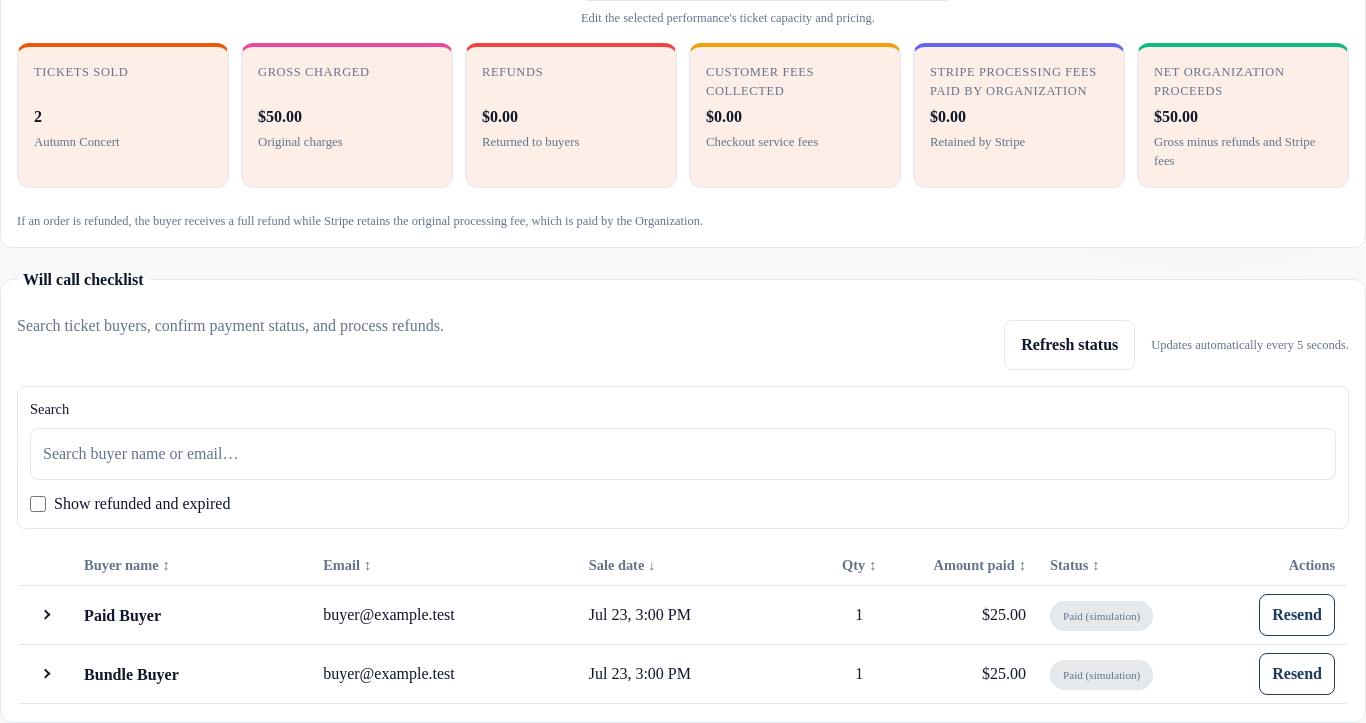
it: WillCallPanel refunded and expired orders › shows bundle information in the expandable order details
(page scrolled)
What coordinates should you click on to do the following:
click the button named "Show details for Bundle Buyer"
I would click on:
 (46, 674)
Its box is left=30, top=658, right=62, bottom=690.
(page scrolled)
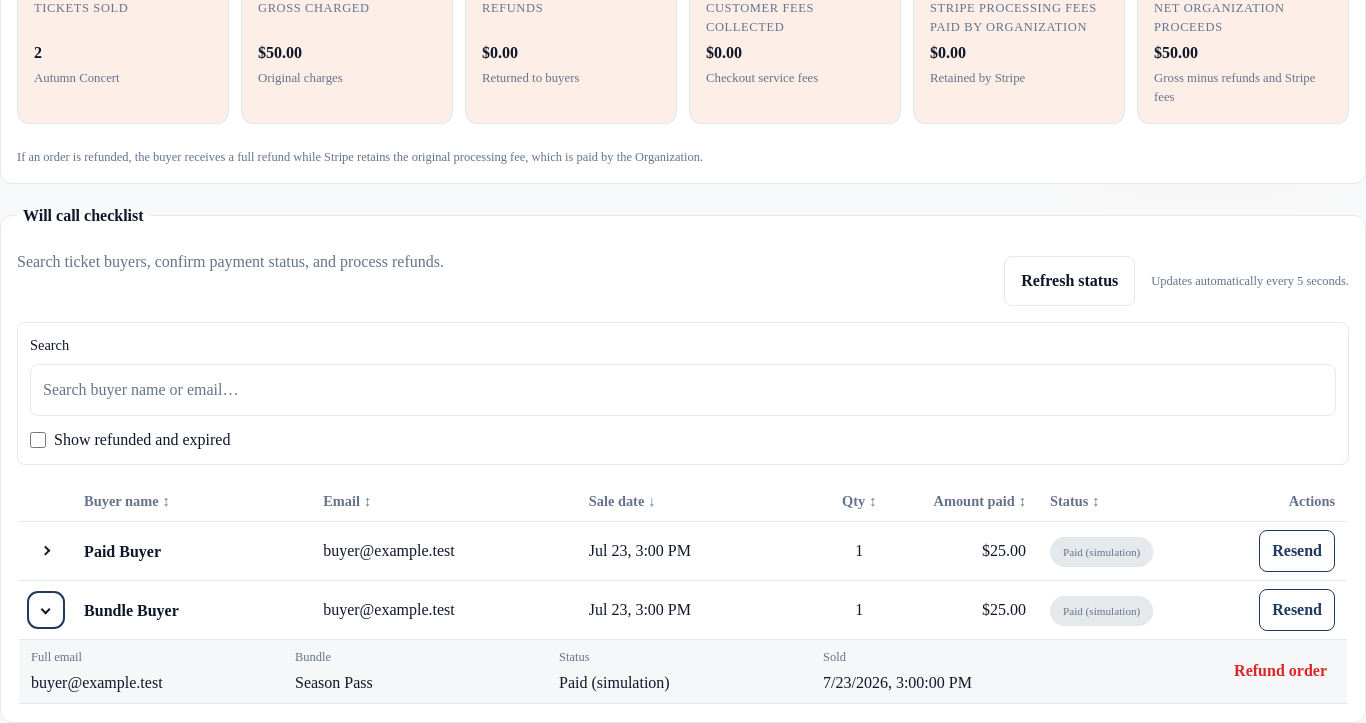
Check: the text "Season Pass" is shown, box left=295, top=674, right=373, bottom=691
Check: the text "Bundle" is shown, box left=295, top=650, right=331, bottom=664
